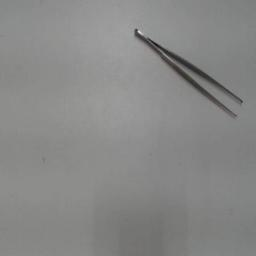Gillies Toothed Dissector: (128, 24, 252, 124)
